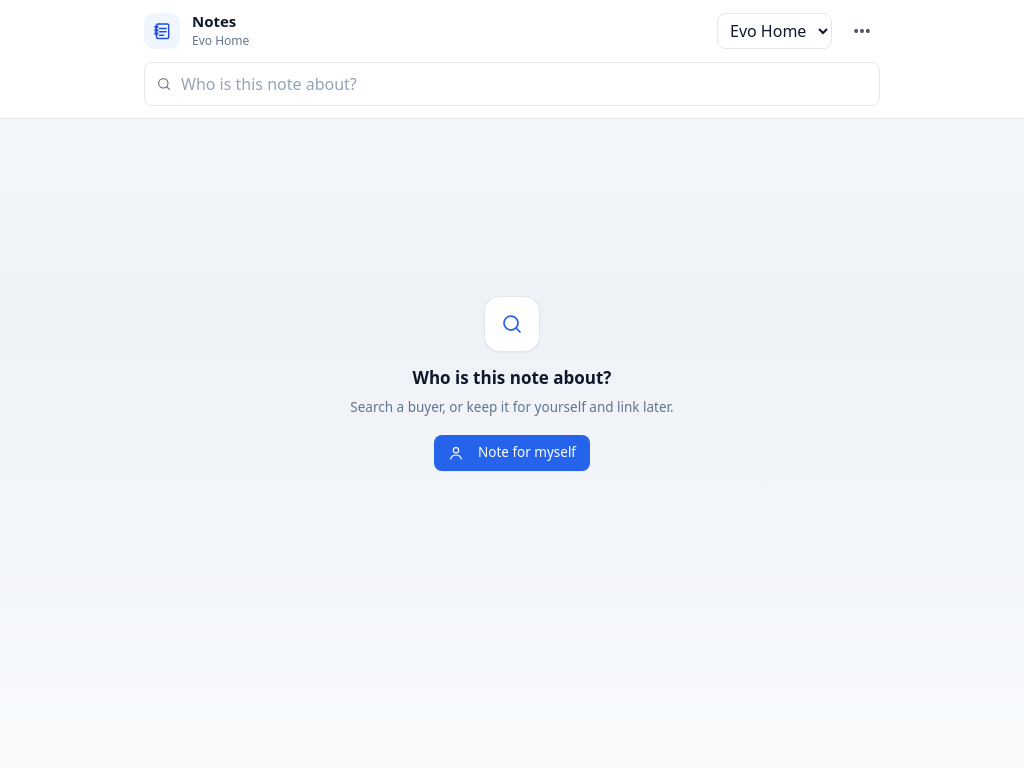
Test case: VisitNotesApp › selects a lead once and opens the conversation without a New visit gate
The image size is (1024, 768).
Type "Ada" into the field with placeholder "Who is this note about?" at (512, 84), box [144,62,880,106]
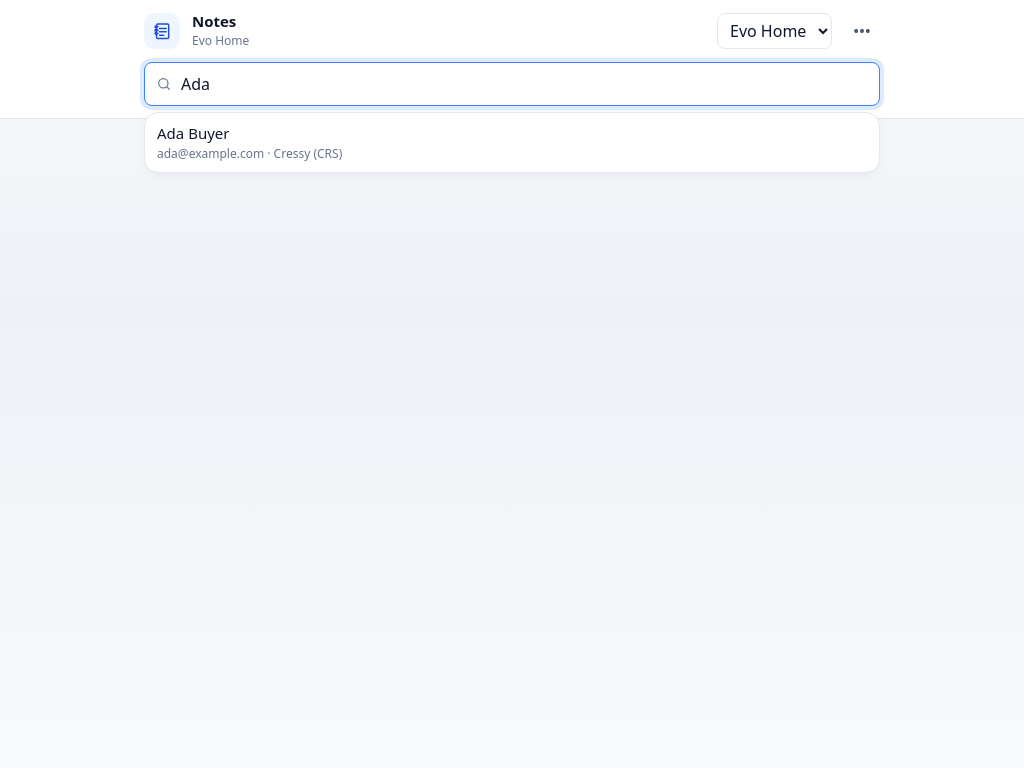
Now the text "Ada Buyer" is shown, box [157,123,230,143]
Now the text "ada@example.com · Cressy (CRS)" is shown, box [157,145,342,162]
Click the button with test id "notes-lead-hit" at (193, 133), box [145,113,879,172]
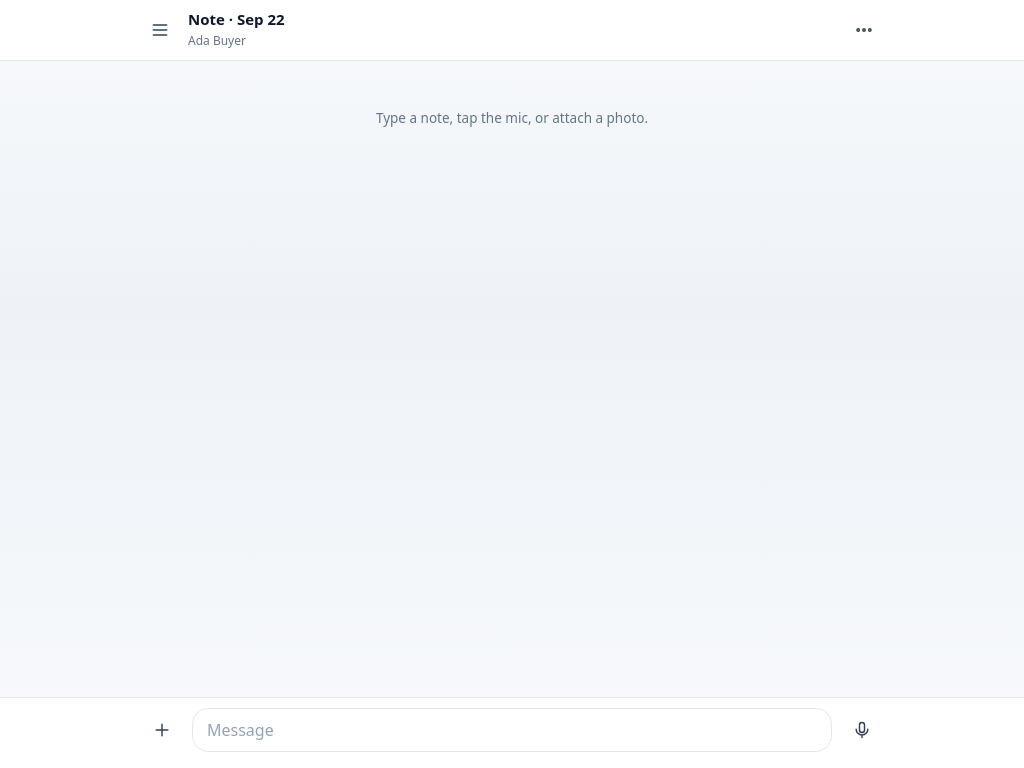
Now the text box named "note message" is shown, box [192,708,832,752]
Now the button named "add attachment" is shown, box [140,708,184,752]
